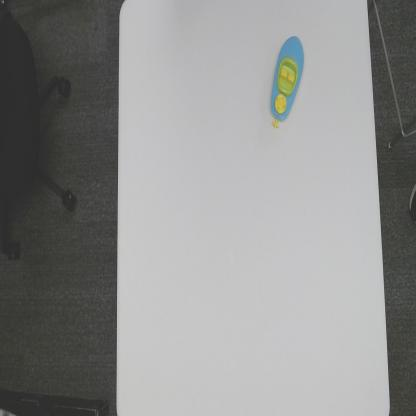Boat: (266, 25, 307, 133)
